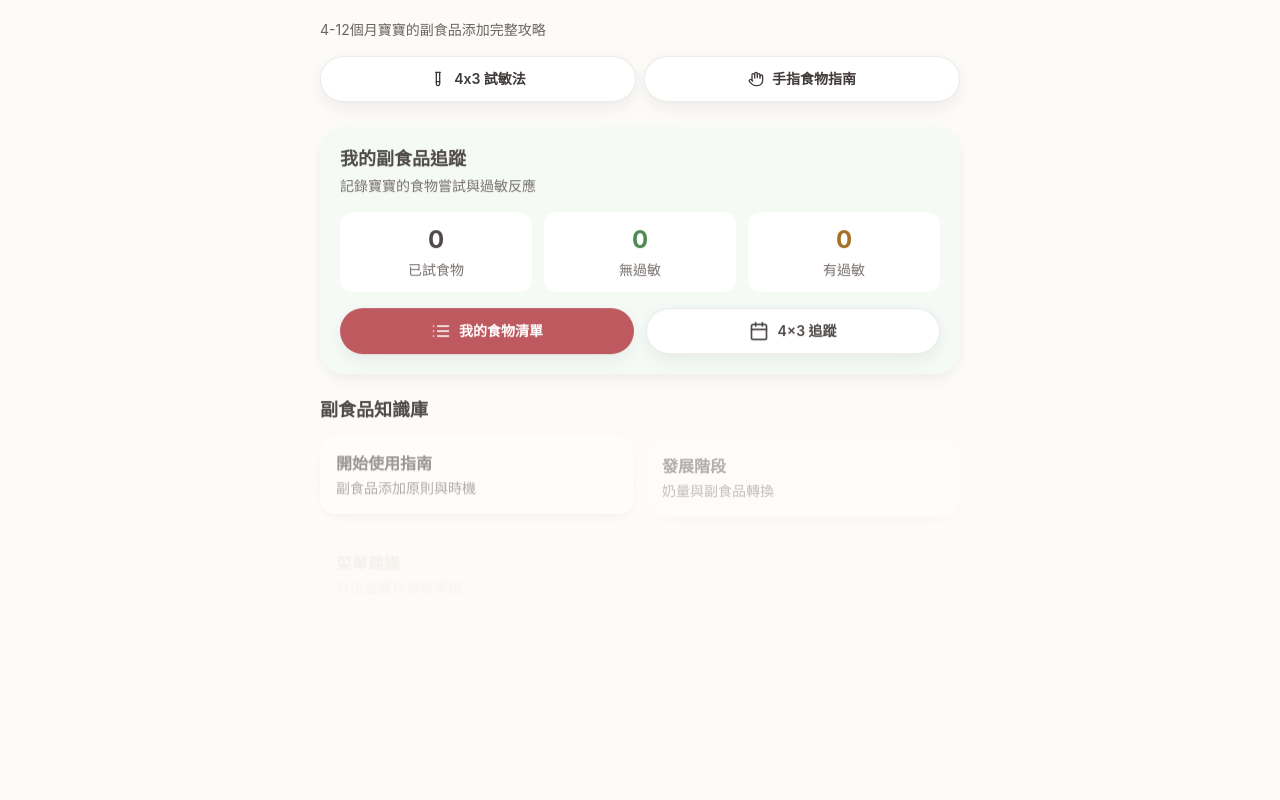
Scenario: 兩張參考表用 bottom sheet 開 › 「手指食物指南」可以開、也可以關
Click the button "手指食物指南" at (802, 79), box x1=644 y1=56 x2=960 y2=102
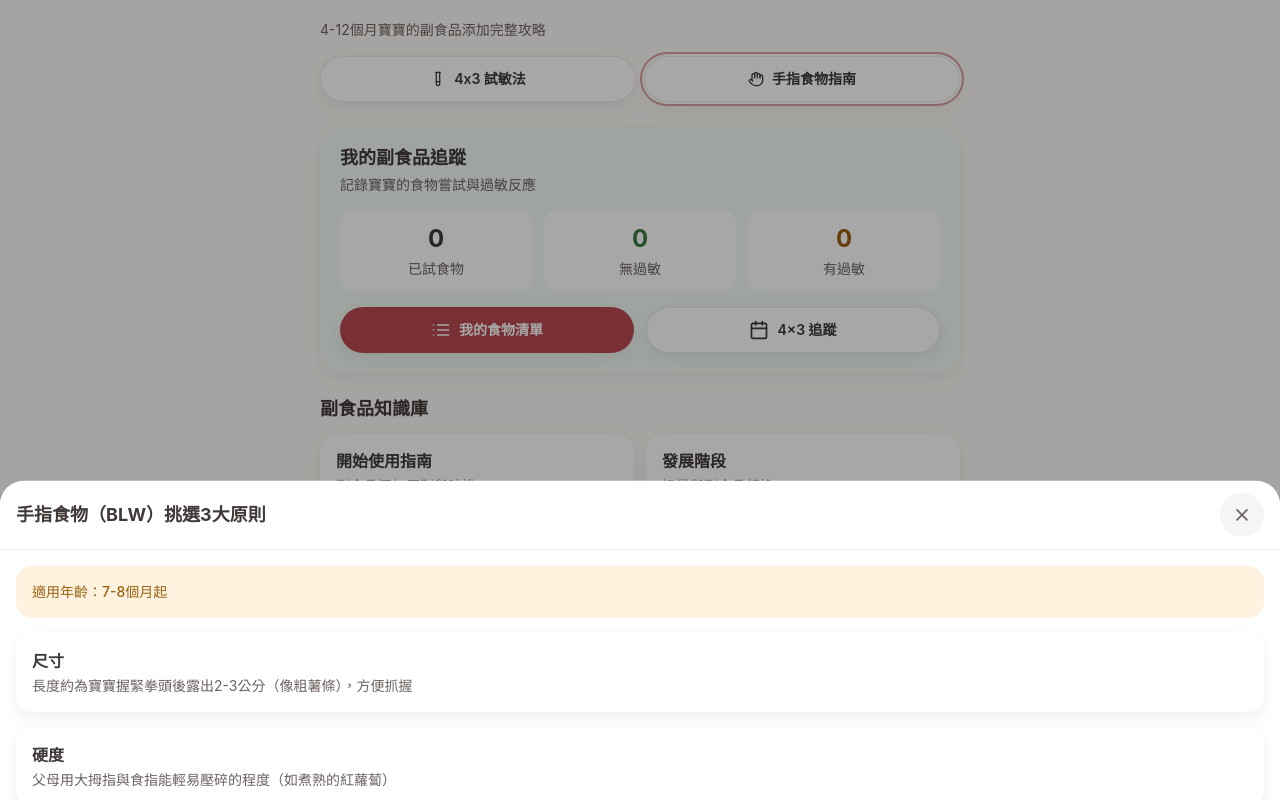
Check: the button named "關閉" is shown
Click the button named "關閉" at (1242, 515), box x1=1220 y1=493 x2=1264 y2=537
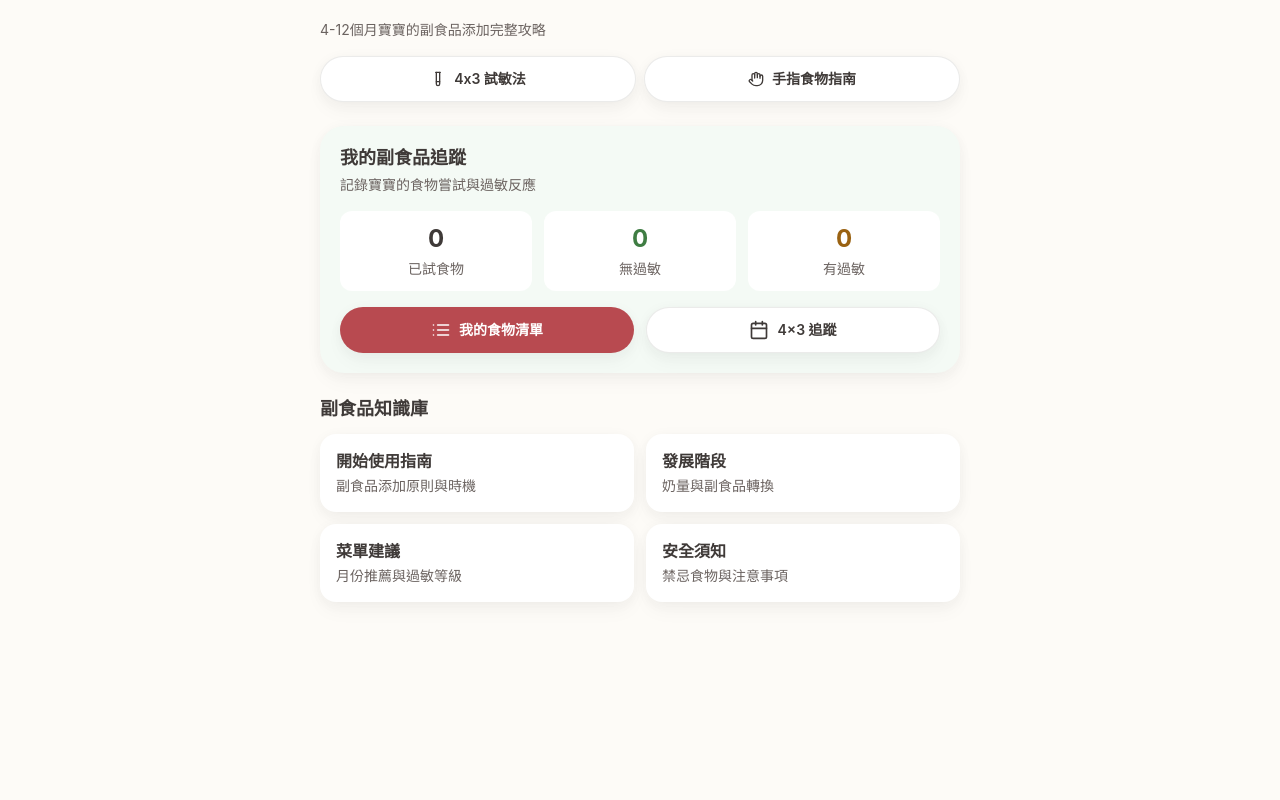
Check: the button "關閉" is gone
